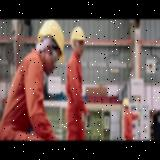Helmet: (37, 19, 65, 64), (70, 26, 86, 46)
